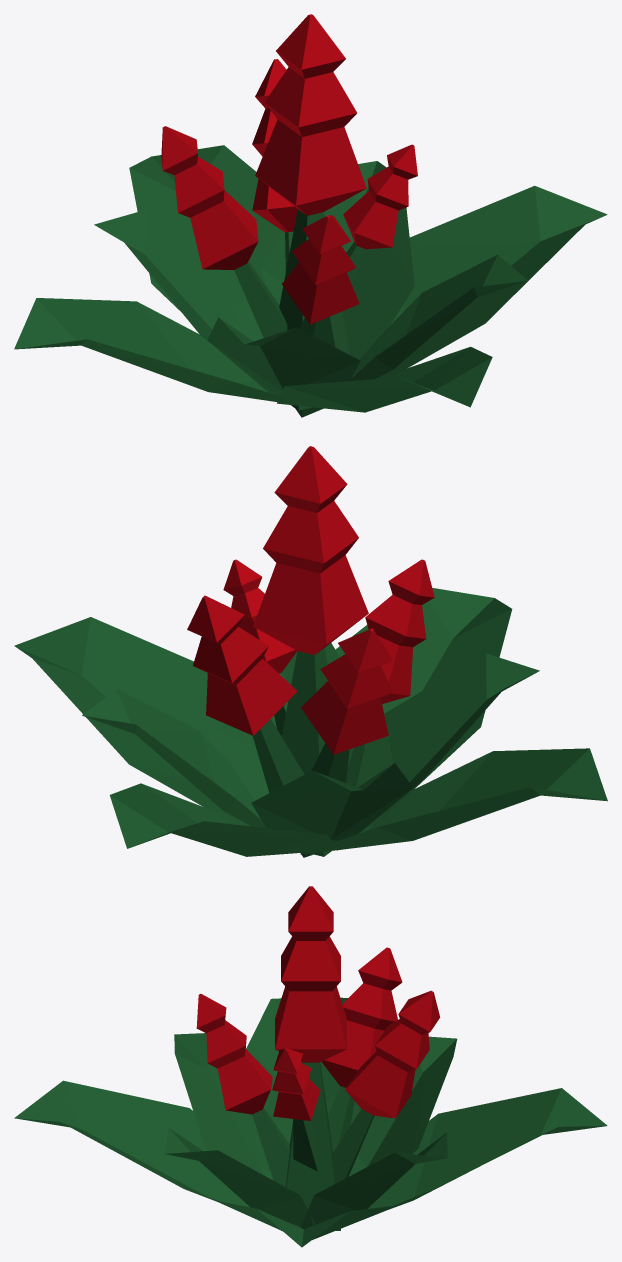
File: SM_SpikeBud_Cluster.fbx
3 renders of one model, top to bottom at view 1: azimuth 30°, elevation 25°; view 2: azimuth 150°, elevation 25°; view 3: azimuth 270°, elevation 25°, orthographic. The views are drawn at different scales.
Visible parts, largest first — view 1: SM_SpikeBud_Cluster; view 2: SM_SpikeBud_Cluster; view 3: SM_SpikeBud_Cluster.
Part boxes in pixels (bbox=[...]): SM_SpikeBud_Cluster: bbox=[14, 14, 607, 417]; SM_SpikeBud_Cluster: bbox=[14, 446, 607, 857]; SM_SpikeBud_Cluster: bbox=[14, 886, 607, 1247].
Bounding box in the file's own units: 67.82 × 43.27 × 67.82.
